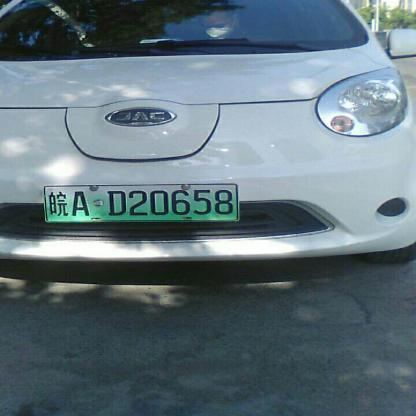lp: (44, 185, 237, 222)
